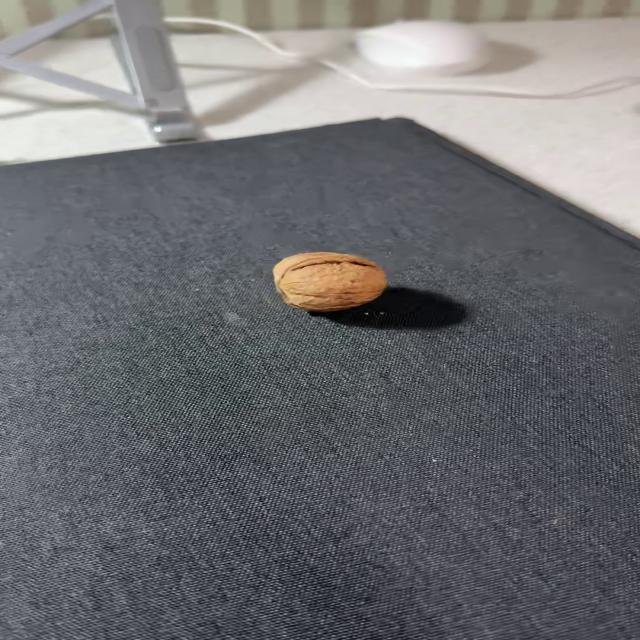nuts-good: (273, 252, 387, 312)
